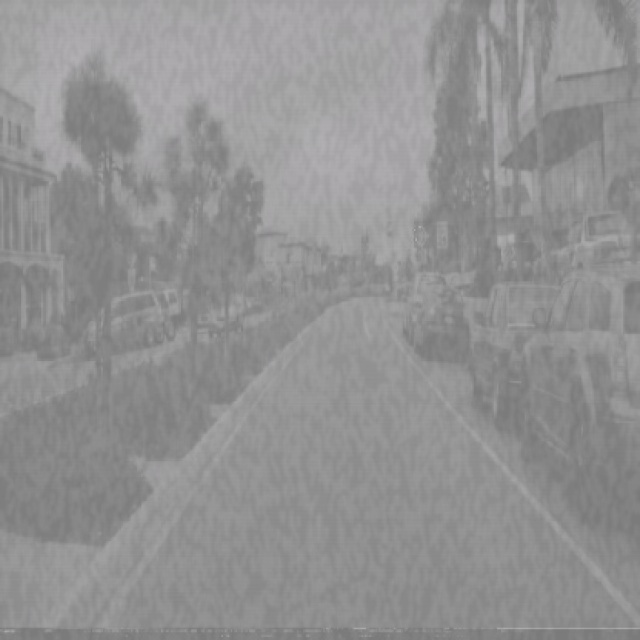roundabout: (415, 220, 431, 251)
speedLimit25: (435, 220, 448, 251)
